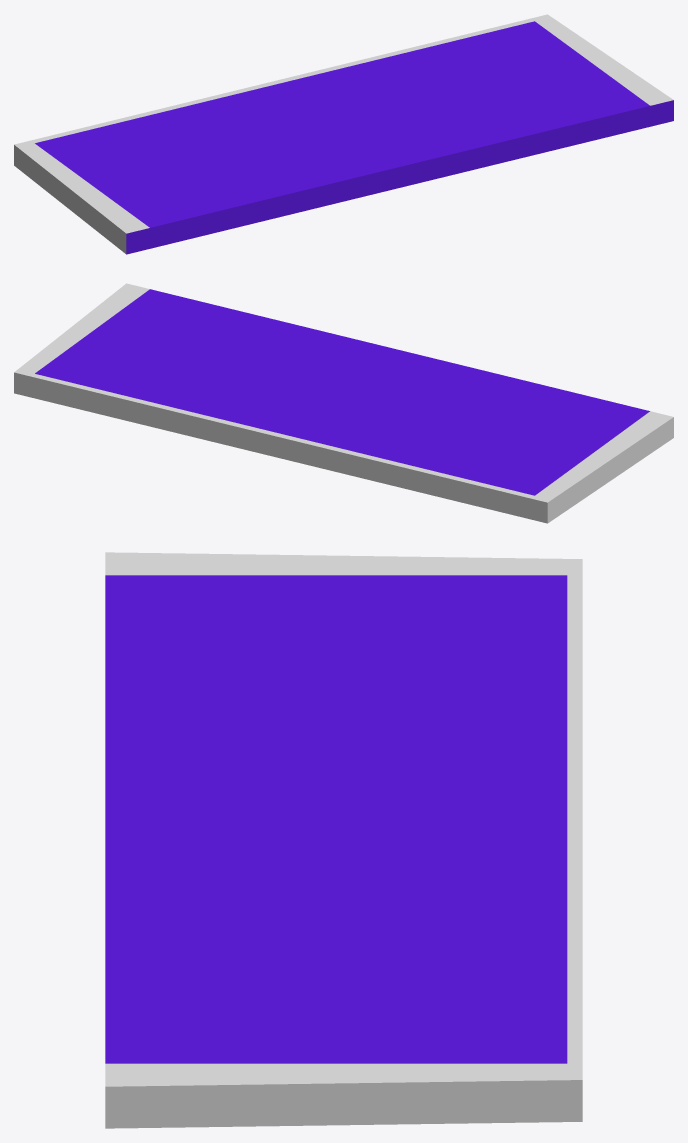
Rendered from SpawningPoint.fbx.
The picture shows the model from 3 angles, top to bottom: view 1: azimuth 30°, elevation 25°; view 2: azimuth 150°, elevation 25°; view 3: azimuth 270°, elevation 25°; orthographic projection. The views are drawn at different scales.
Visible parts, largest first — view 1: Cube; view 2: Cube; view 3: Cube.
Part boxes in pixels (x1,y1,x2,y2): Cube: (14,14,673,254); Cube: (14,283,673,523); Cube: (105,552,582,1128).
Bounding box in the file's own units: 547 × 20 × 207.
